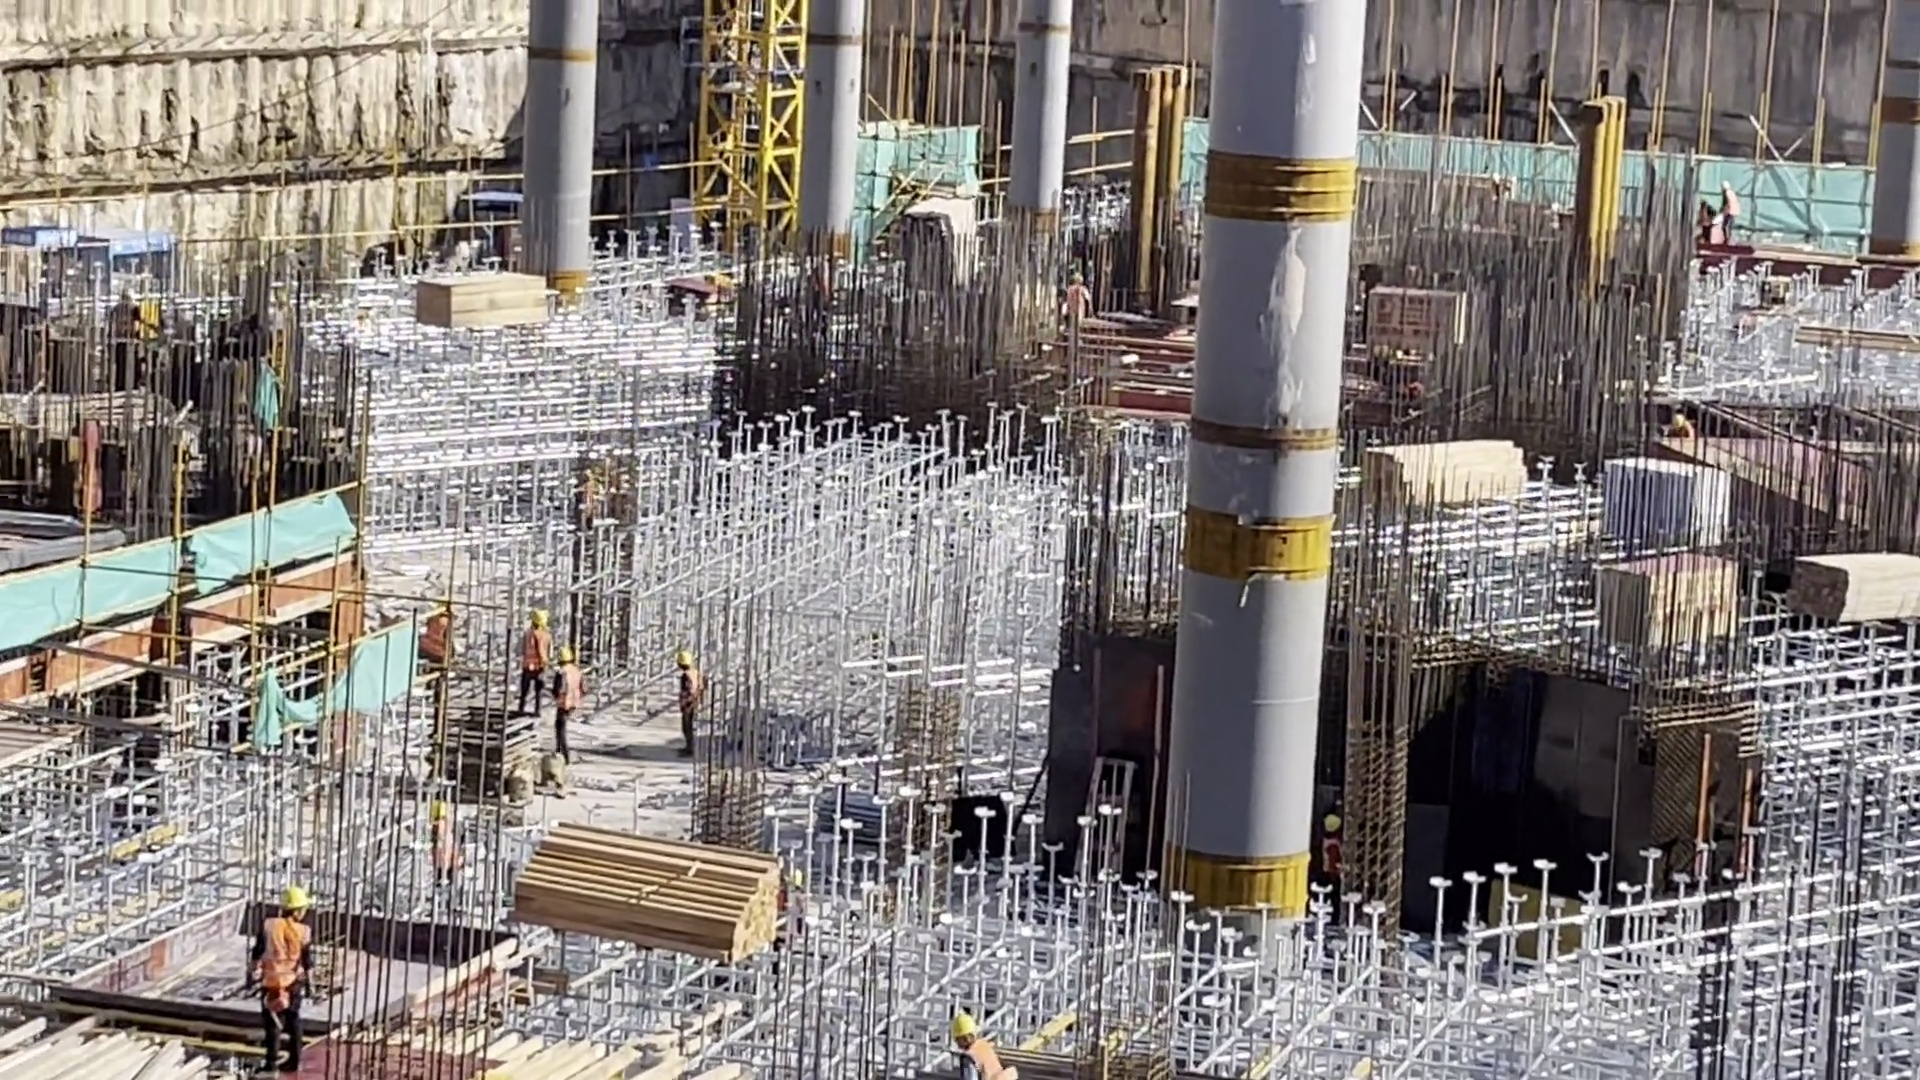helmet: (276, 885, 315, 909), (949, 1014, 976, 1041), (527, 611, 549, 628), (1324, 813, 1341, 833), (677, 649, 691, 667), (555, 649, 574, 662)
person: (243, 881, 320, 1070), (944, 1013, 1016, 1080), (515, 606, 553, 718), (549, 646, 580, 764), (670, 647, 701, 755), (418, 608, 455, 669), (1317, 812, 1349, 882), (1061, 271, 1091, 329), (1717, 177, 1739, 241), (1693, 197, 1711, 252)
vest: (262, 920, 308, 1000), (522, 631, 550, 673), (423, 615, 447, 657), (554, 667, 579, 707), (678, 669, 698, 714), (1320, 839, 1342, 875)
